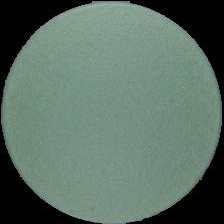68151-3083: (0, 0, 224, 224)
